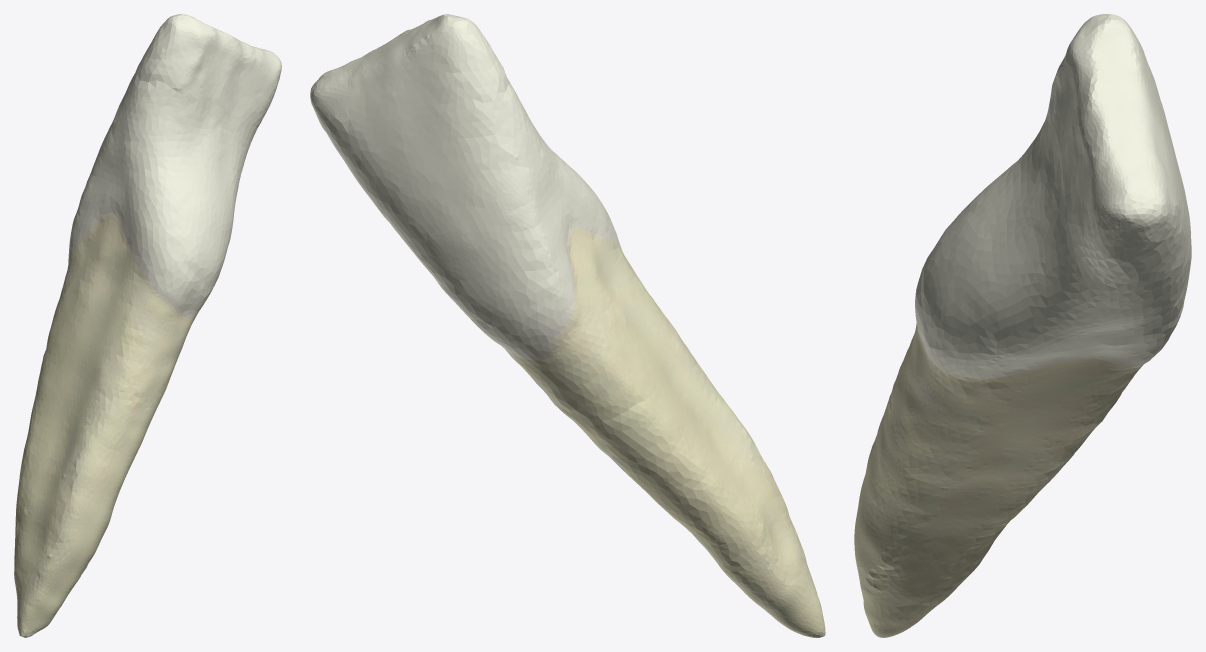
File: 31primeiro.glb
The picture shows the model from 3 angles, left to right: view 1: azimuth 30°, elevation 25°; view 2: azimuth 150°, elevation 25°; view 3: azimuth 270°, elevation 25°; orthographic projection. The views are drawn at different scales.
Parts seen in each view (by area): view 1: 3MFMeshParent_0; view 2: 3MFMeshParent_0; view 3: 3MFMeshParent_0.
Part boxes in pixels (x1=…): 3MFMeshParent_0: x1=14, y1=14, x2=281, y2=637; 3MFMeshParent_0: x1=310, y1=14, x2=825, y2=637; 3MFMeshParent_0: x1=854, y1=14, x2=1191, y2=637.
Size of the model in its own units: 0.3575 by 0.512 by 0.1992.
Materials: 1 (1 with a texture image).
